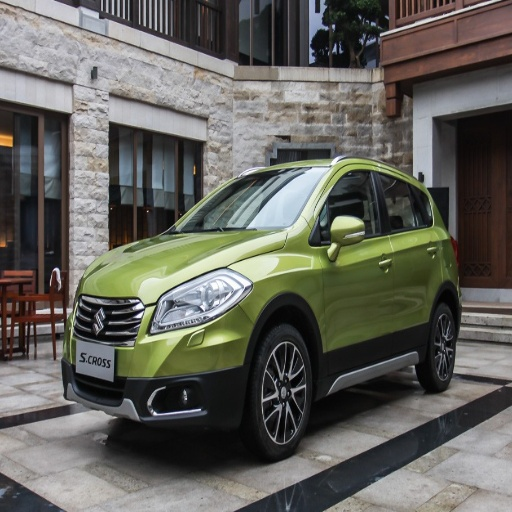front_bumper: (63, 278, 256, 427)
front_glass: (170, 169, 323, 233)
front_left_door: (315, 164, 394, 375)
